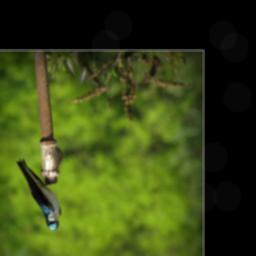Swallow: (16, 156, 62, 231)
